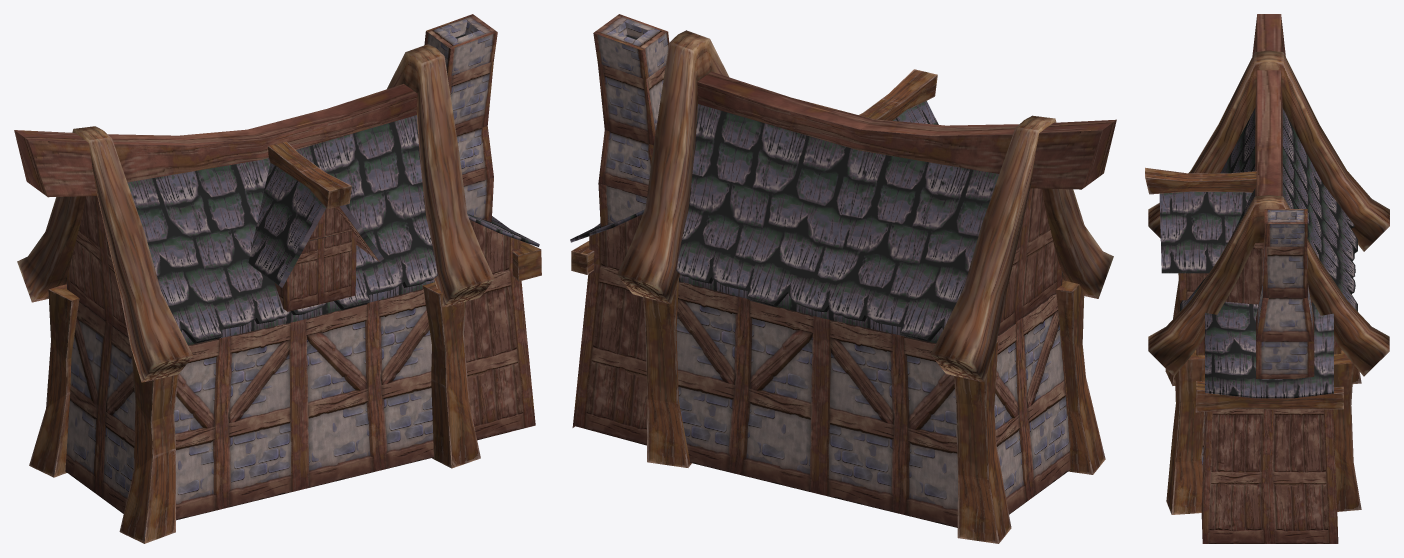
The model's file is house01.fbx.
3 views of the same model, side by side, from view 1: azimuth 30°, elevation 25°; view 2: azimuth 150°, elevation 25°; view 3: azimuth 270°, elevation 25° (orthographic). The views are drawn at different scales.
Parts seen in each view (by area): view 1: house01_; view 2: house01_; view 3: house01_.
Part boxes in pixels (bbox=[...]): house01_: bbox=[14, 14, 541, 543]; house01_: bbox=[570, 14, 1116, 543]; house01_: bbox=[1145, 14, 1389, 543].
Size of the model in its own units: 455 by 344 by 231.
